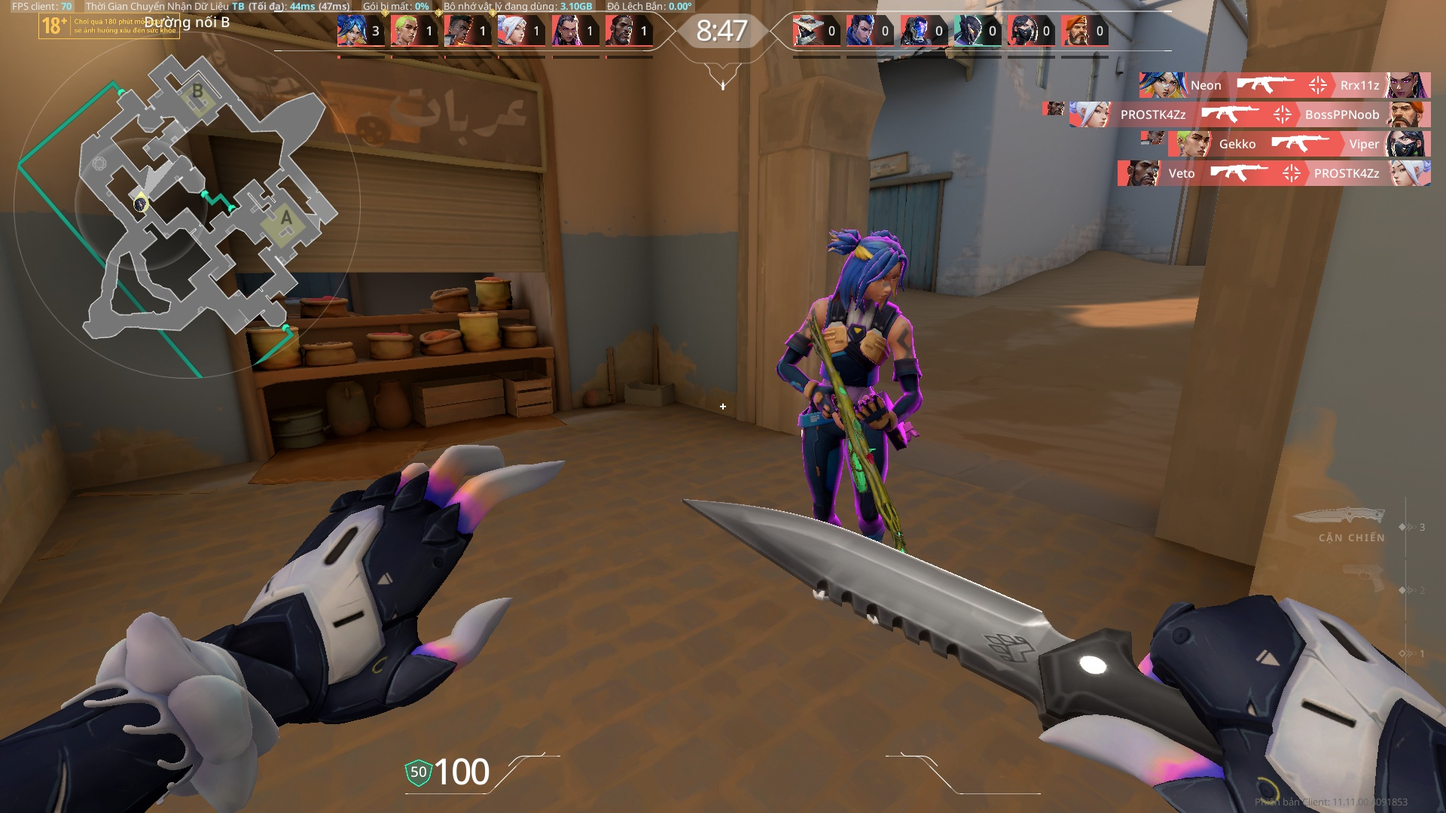body: (811, 297, 900, 410)
head: (843, 233, 901, 303)
